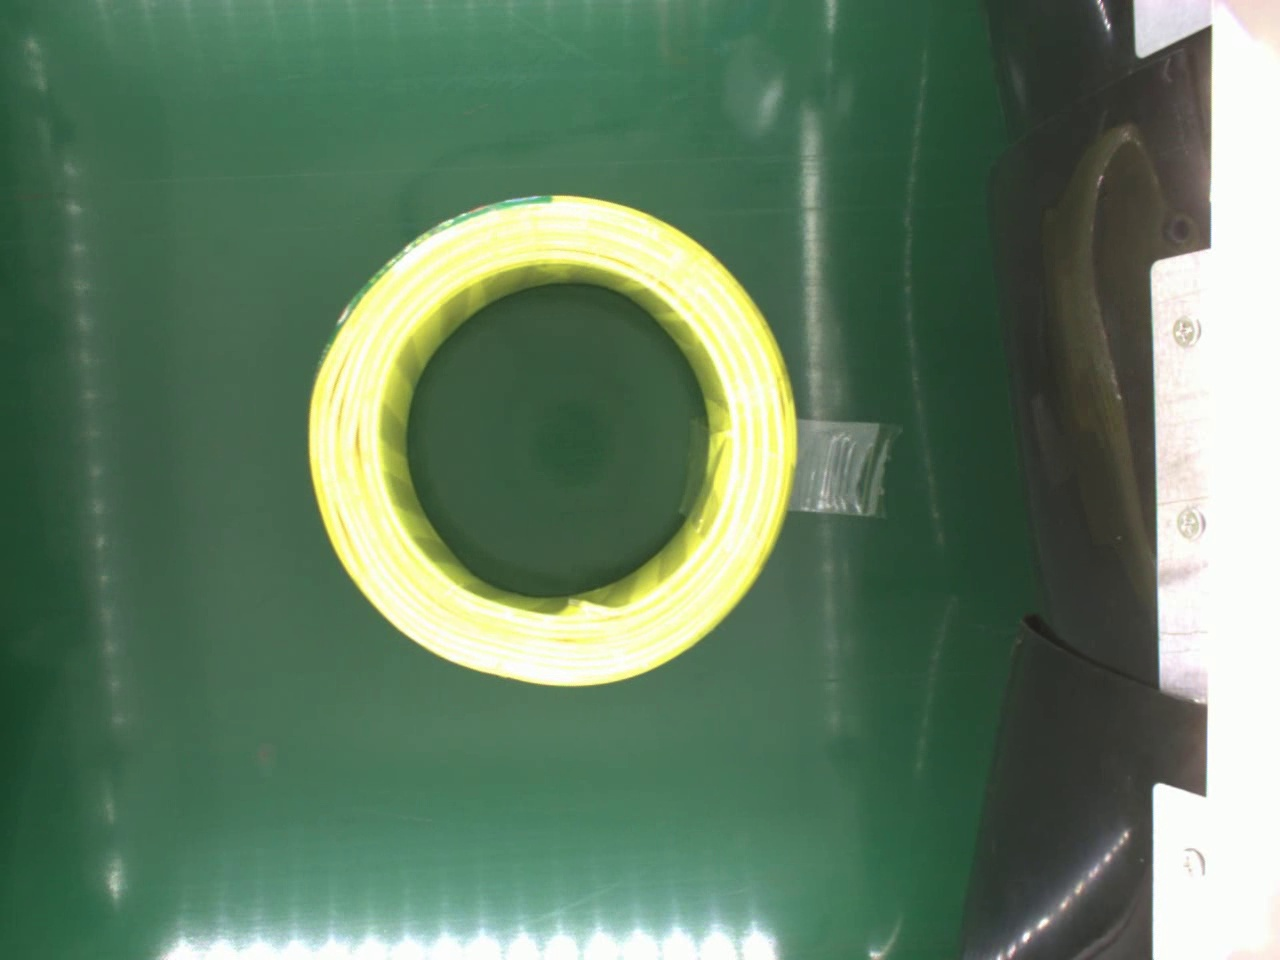yellow: (303, 188, 798, 692)
